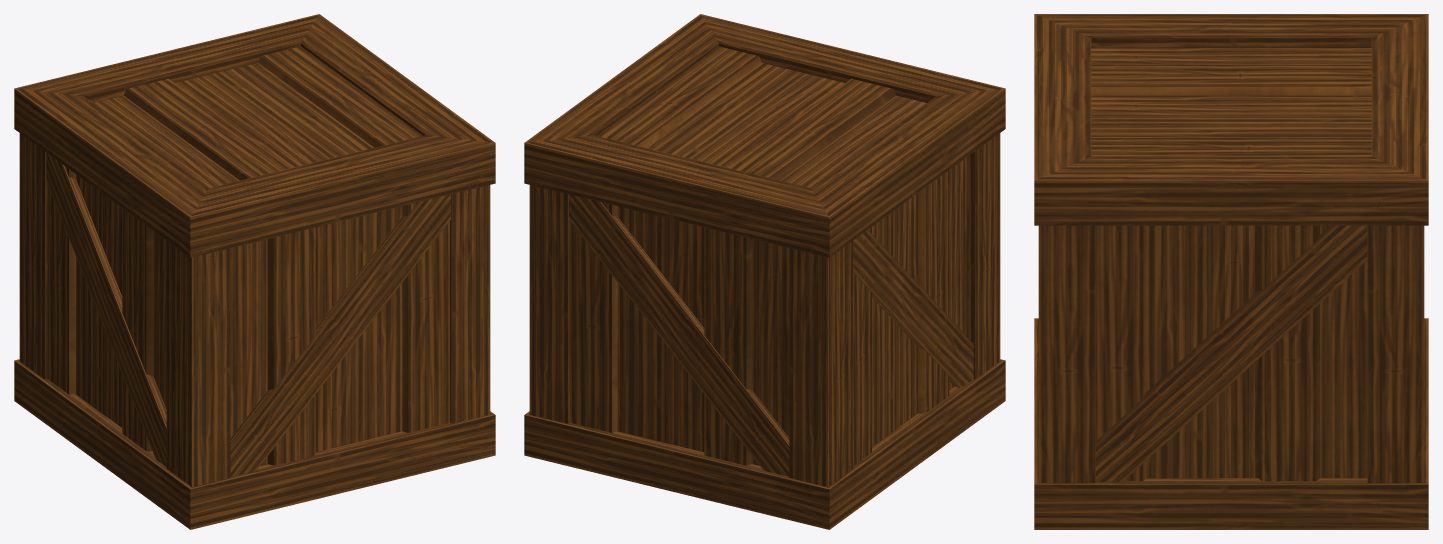
The picture shows the model from 3 angles, left to right: view 1: azimuth 30°, elevation 25°; view 2: azimuth 150°, elevation 25°; view 3: azimuth 270°, elevation 25°; orthographic projection. The views are drawn at different scales.
Parts seen in each view (by area): view 1: Prop_Crate; view 2: Prop_Crate; view 3: Prop_Crate.
Boxes of the visible parts, bbox=[...] form: Prop_Crate: bbox=[14, 14, 495, 529]; Prop_Crate: bbox=[524, 14, 1005, 529]; Prop_Crate: bbox=[1034, 14, 1428, 529].
Size of the model in its own units: 1.08 by 1.06 by 1.08.
1 material, 1 textured.
